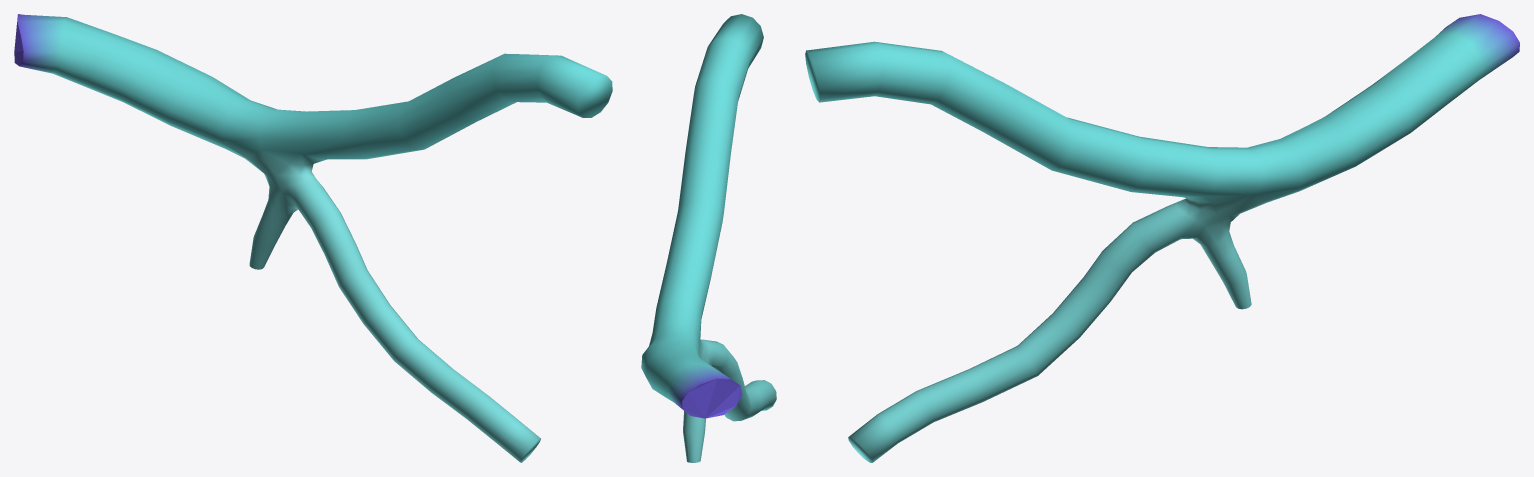
The model's file is Iliac_Vein_Left.FBX.
The picture shows the model from 3 angles, left to right: view 1: azimuth 30°, elevation 25°; view 2: azimuth 150°, elevation 25°; view 3: azimuth 270°, elevation 25°; orthographic projection. The views are drawn at different scales.
Visible parts, largest first — view 1: Iliac_Vein_Left; view 2: Iliac_Vein_Left; view 3: Iliac_Vein_Left.
Part boxes in pixels (left/top/right/bottom): Iliac_Vein_Left: left=14, top=14, right=612, bottom=462; Iliac_Vein_Left: left=641, top=14, right=776, bottom=462; Iliac_Vein_Left: left=805, top=14, right=1519, bottom=462.
Size of the model in its own units: 82.72 by 102 by 151.
